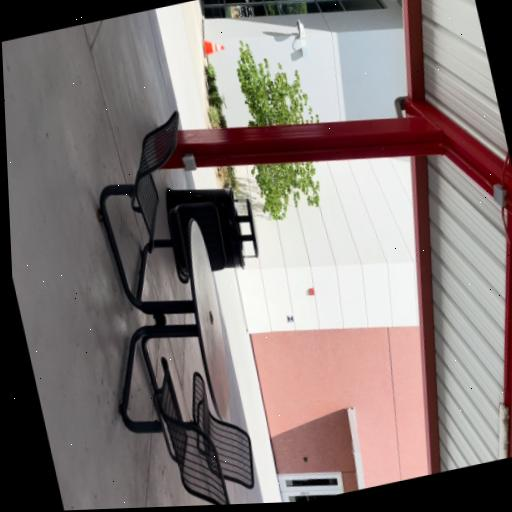target9: (286, 315, 293, 323)
